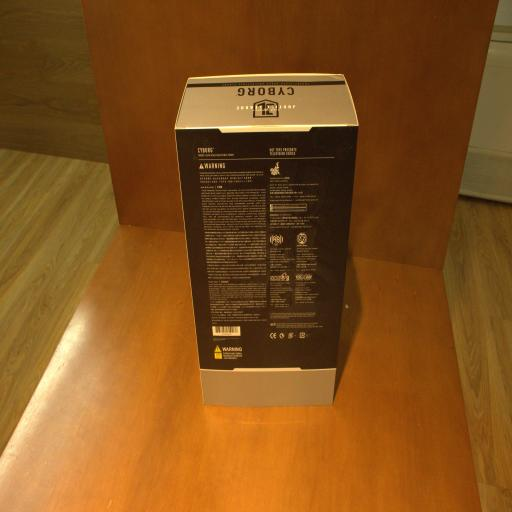Cyborg: (174, 74, 359, 407)
